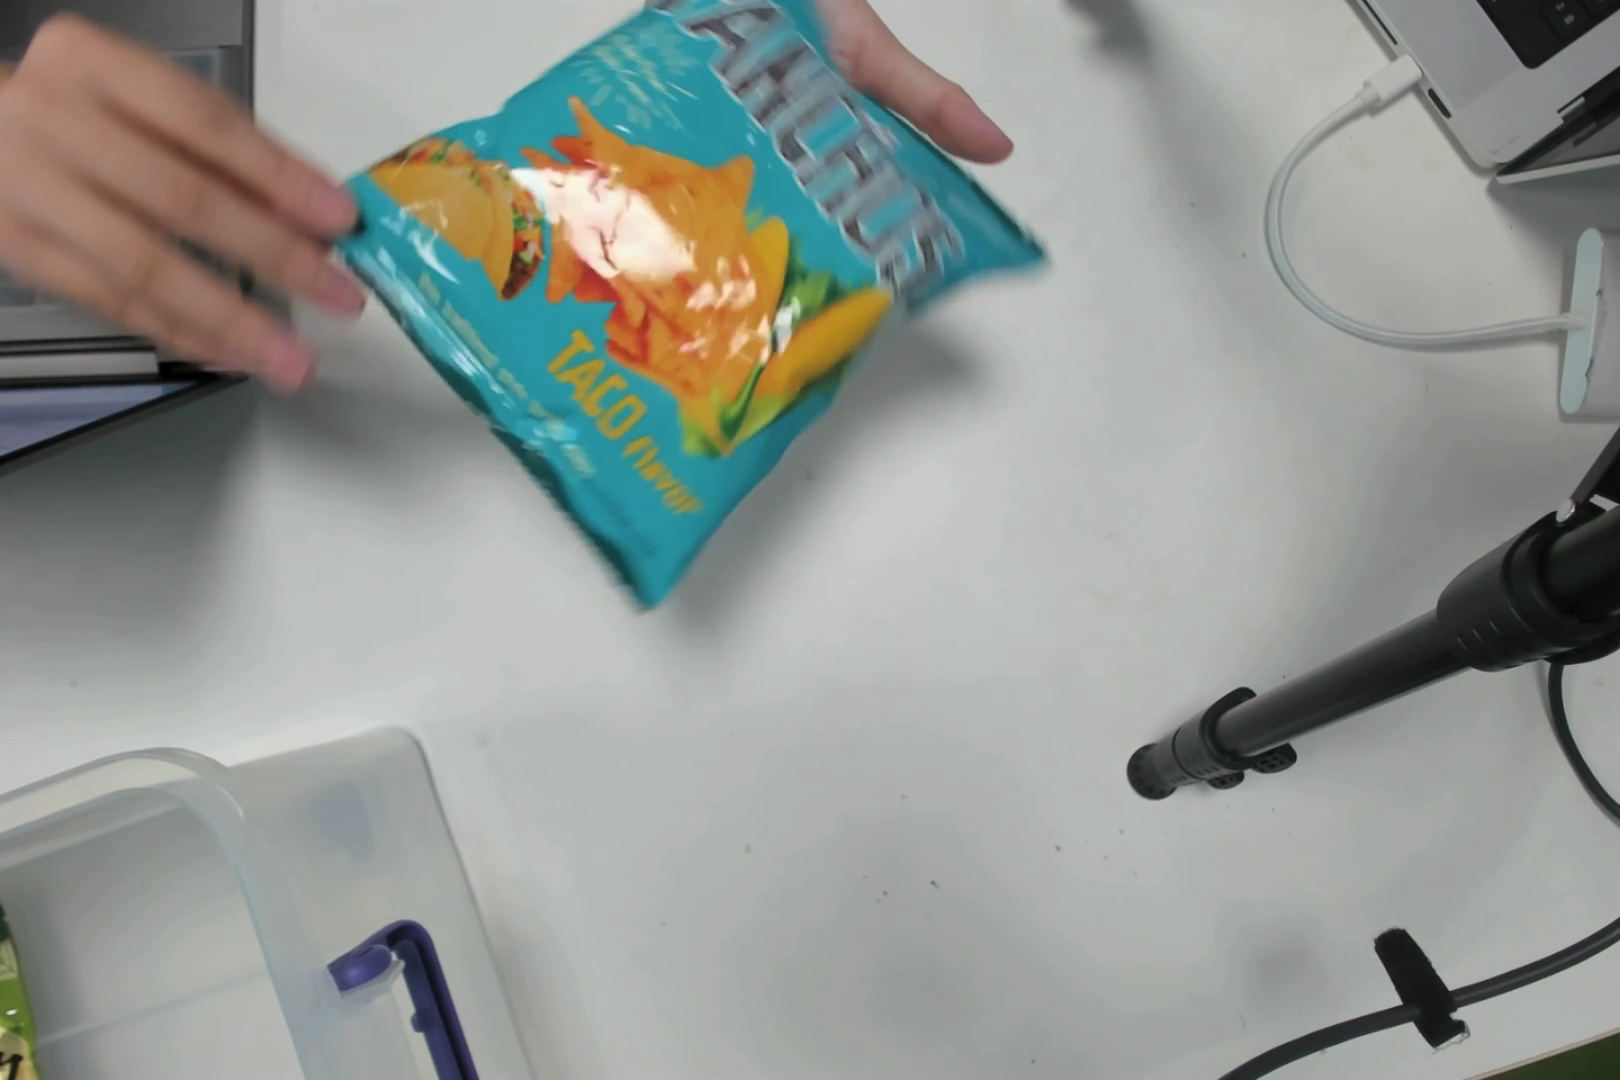PotatochipsKeropok_1-99g_NonHalal_NonHealthy: (470, 14, 937, 506)
